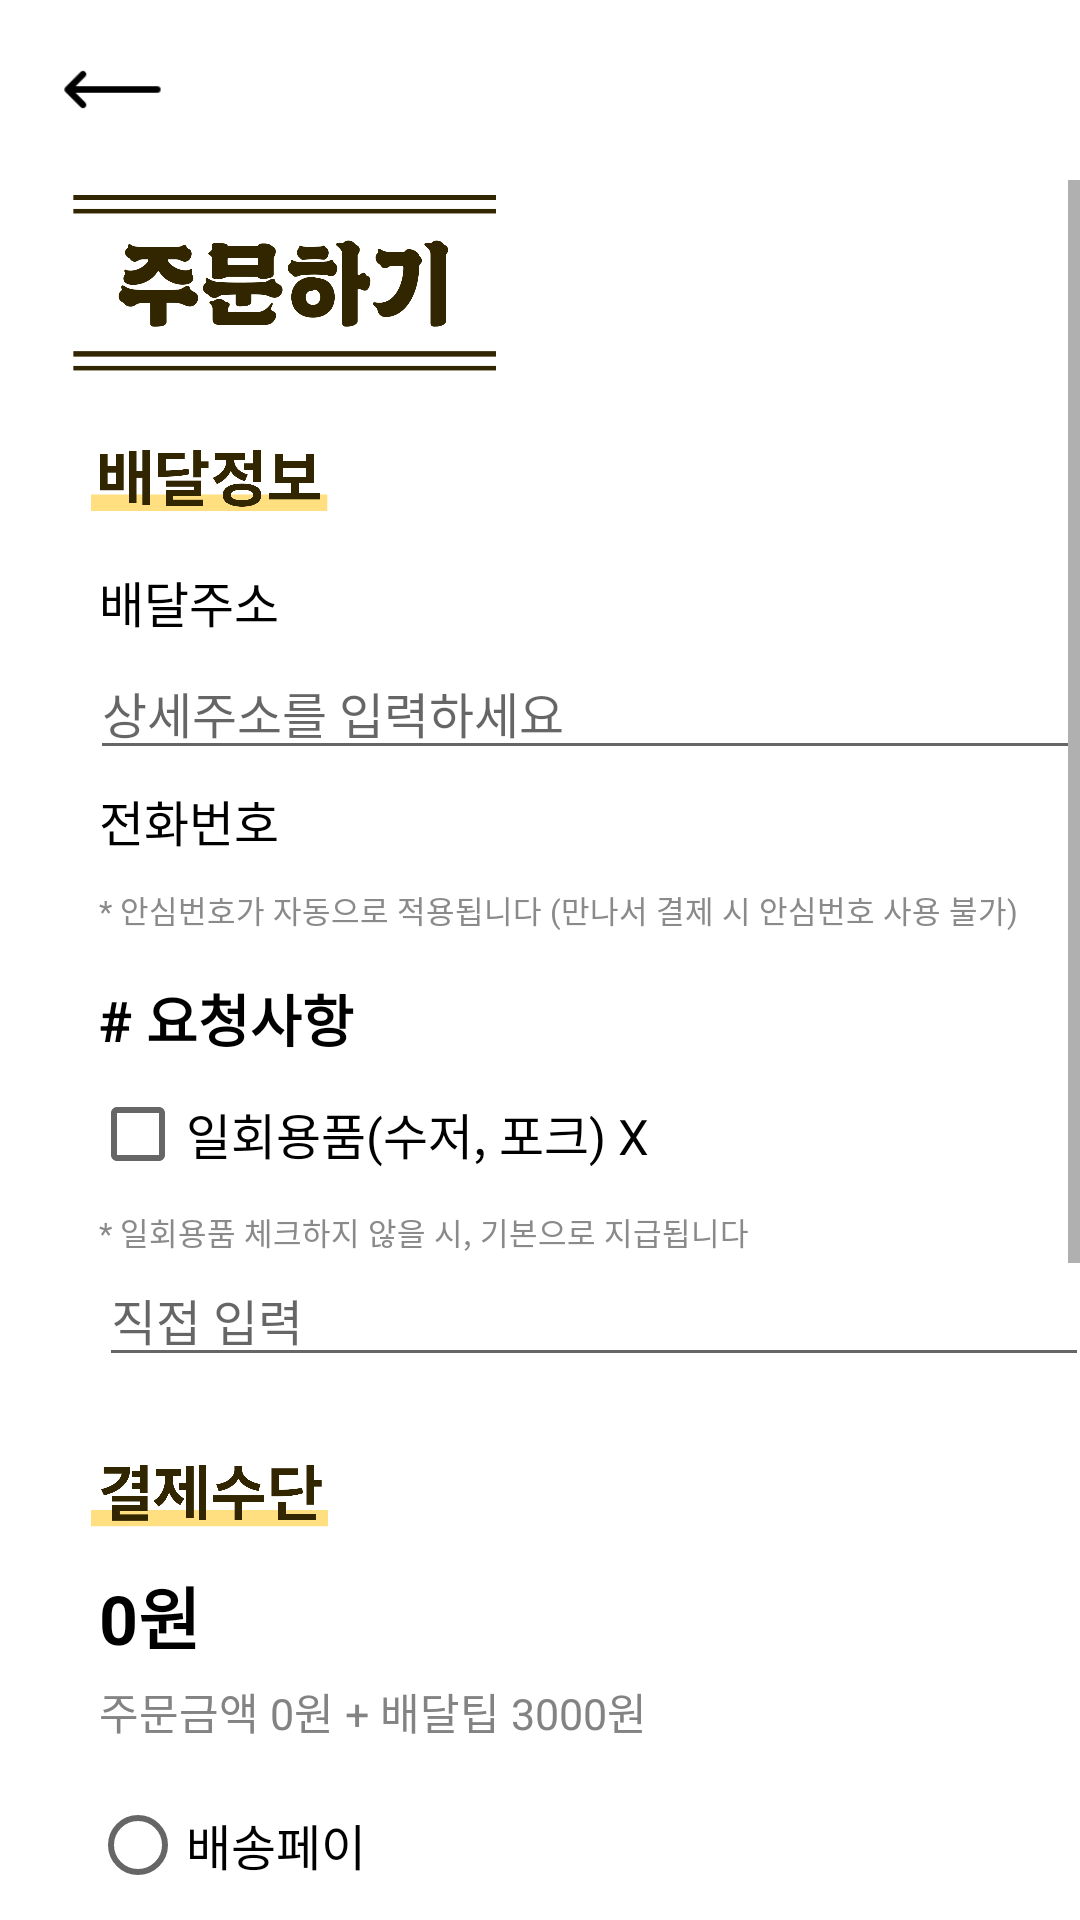

Icons on this 1080*1920 Android screen, each with the point to tap as point (x, y):
back: point (112, 89)
